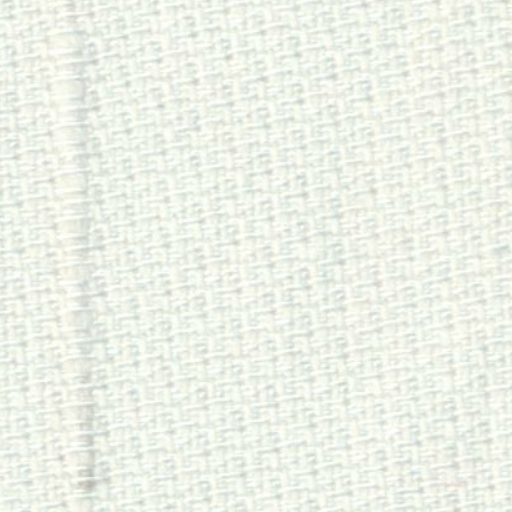DaiSha: (36, 4, 120, 498)
